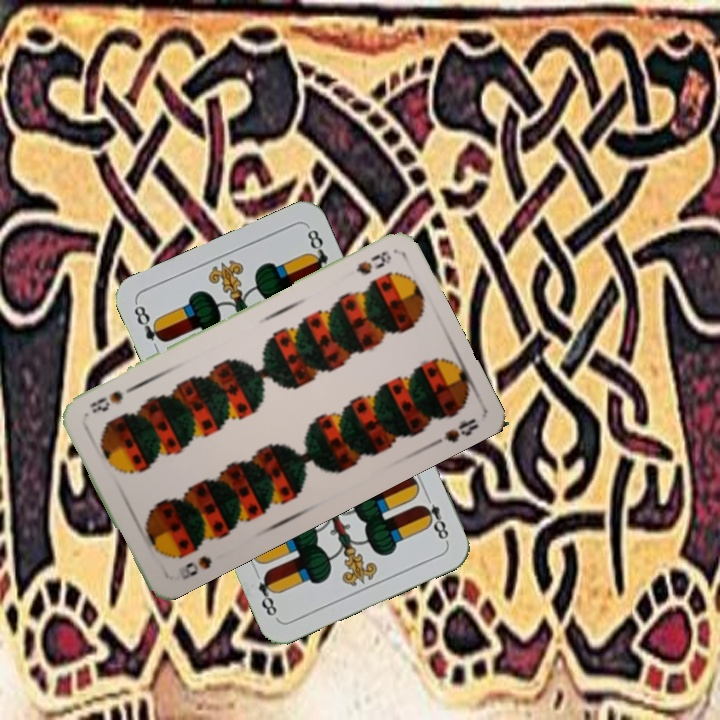E8: (416, 489, 452, 545), (130, 300, 169, 345)
S8: (352, 246, 394, 278), (174, 551, 215, 583)
